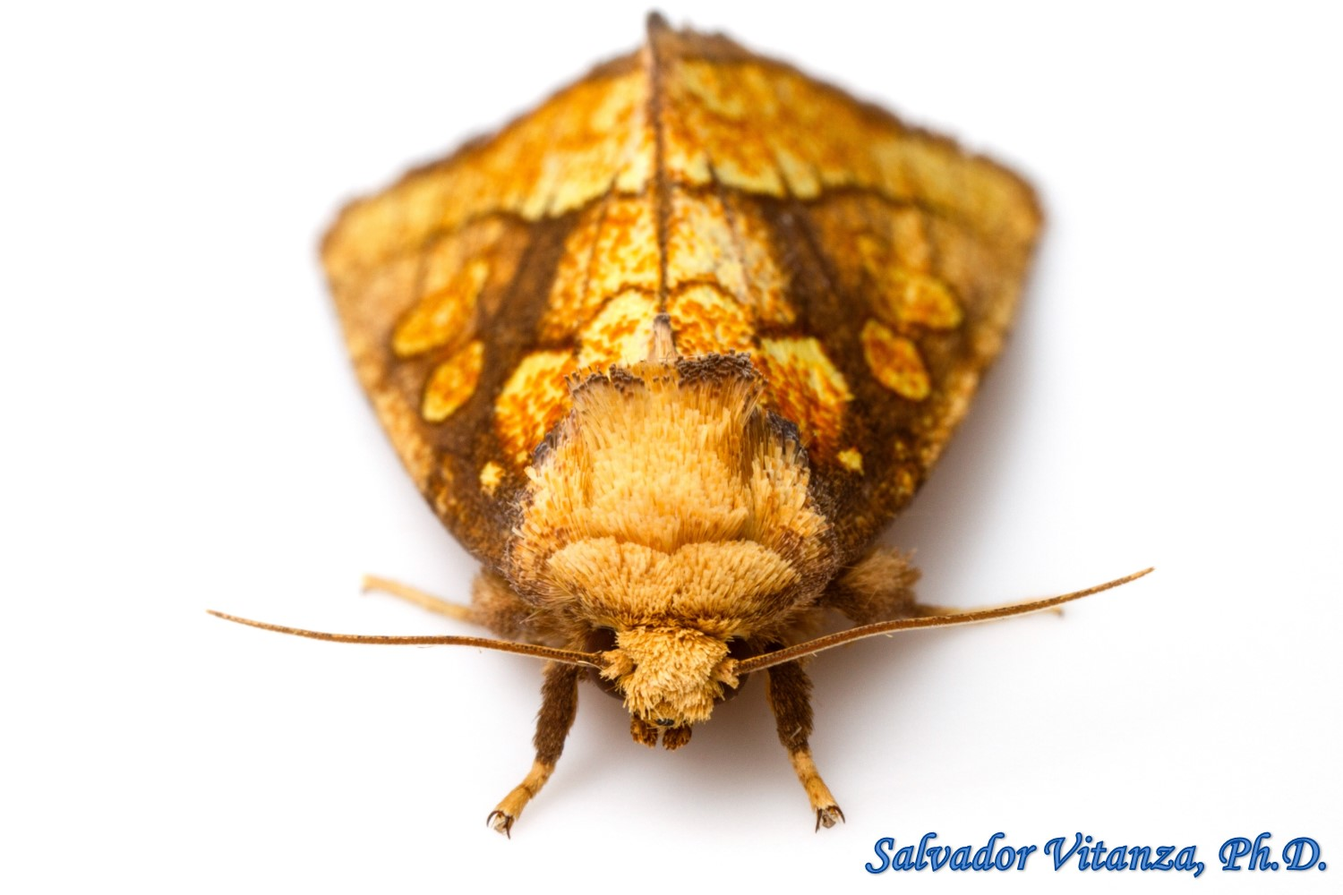Noctuidae: (209, 13, 1127, 833)
